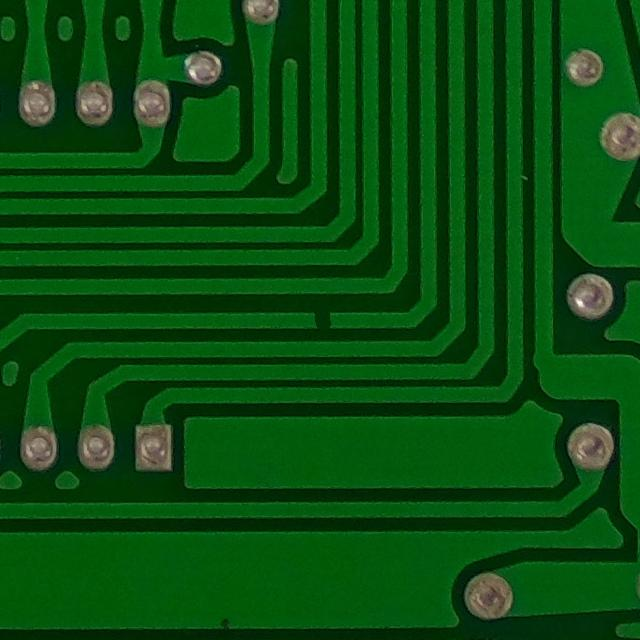open_circuit: (300, 304, 341, 337)
